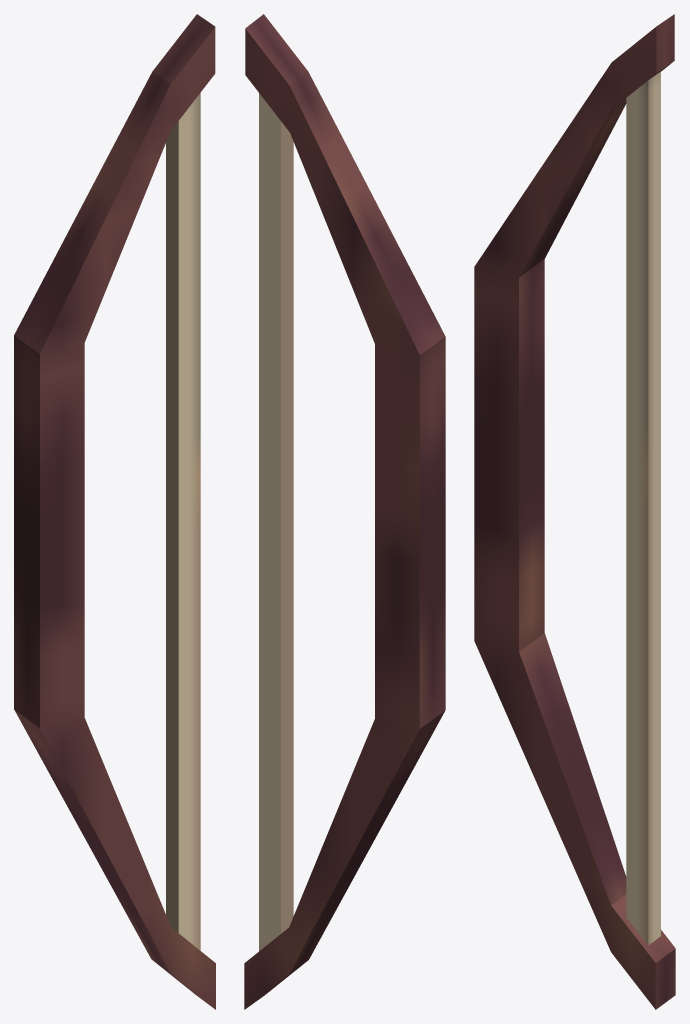
The model's file is Bow.fbx.
3 renders of one model, left to right at view 1: azimuth 30°, elevation 25°; view 2: azimuth 150°, elevation 25°; view 3: azimuth 330°, elevation 25°, orthographic.
Visible parts, largest first — view 1: Cube.013; view 2: Cube.013; view 3: Cube.013.
Part boxes in pixels (x1,y1,x2,y2): Cube.013: (14,14,215,1009); Cube.013: (244,14,445,1009); Cube.013: (474,14,675,1009).
Bounding box in the file's own units: 0.25 × 0.0625 × 1.31.
